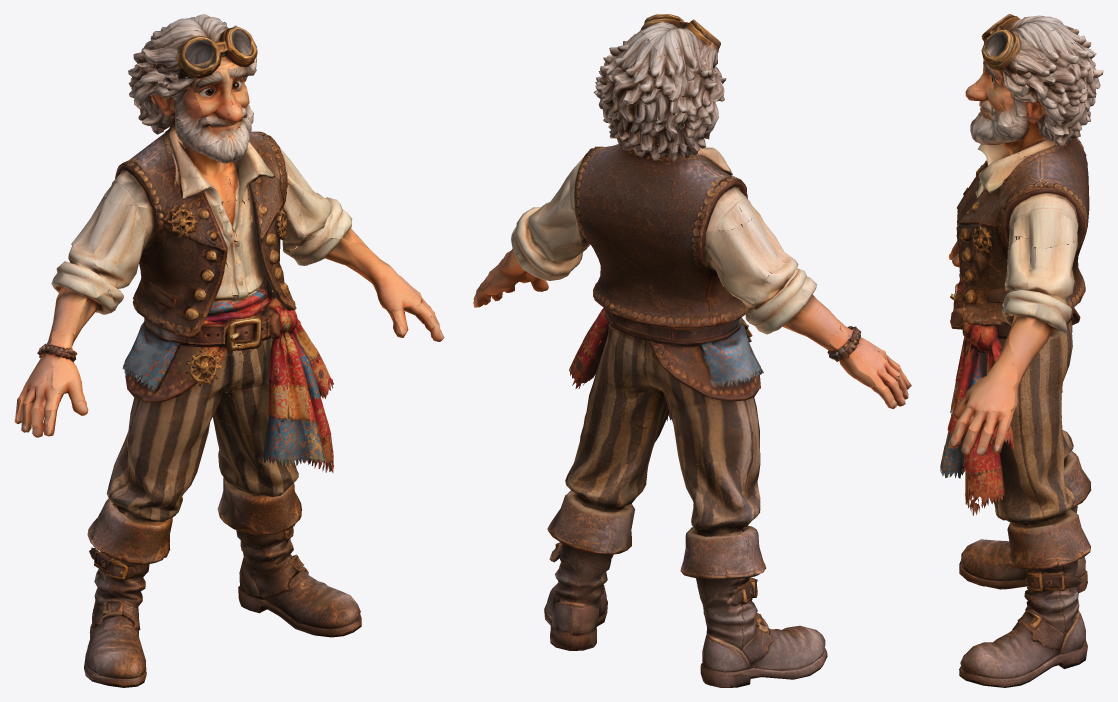
The model's file is violinist_steampunk.fbx.
3 views of the same model, side by side, from view 1: azimuth 30°, elevation 25°; view 2: azimuth 150°, elevation 25°; view 3: azimuth 270°, elevation 25° (orthographic). The views are drawn at different scales.
Visible parts, largest first — view 1: violinist_steampunk; view 2: violinist_steampunk; view 3: violinist_steampunk.
Part boxes in pixels (box(x1,y1,x2,y2)): violinist_steampunk: box(14, 14, 444, 687); violinist_steampunk: box(473, 14, 911, 687); violinist_steampunk: box(940, 14, 1103, 687).
Bounding box in the file's own units: 1.31 × 1.85 × 0.4516.
1 material, 1 textured.
